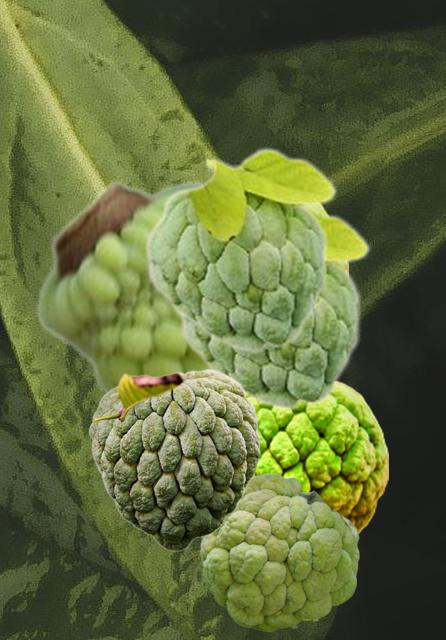atis: (143, 146, 337, 353), (178, 208, 370, 410), (36, 178, 204, 394), (88, 368, 259, 550), (200, 473, 358, 630), (251, 379, 387, 537)
